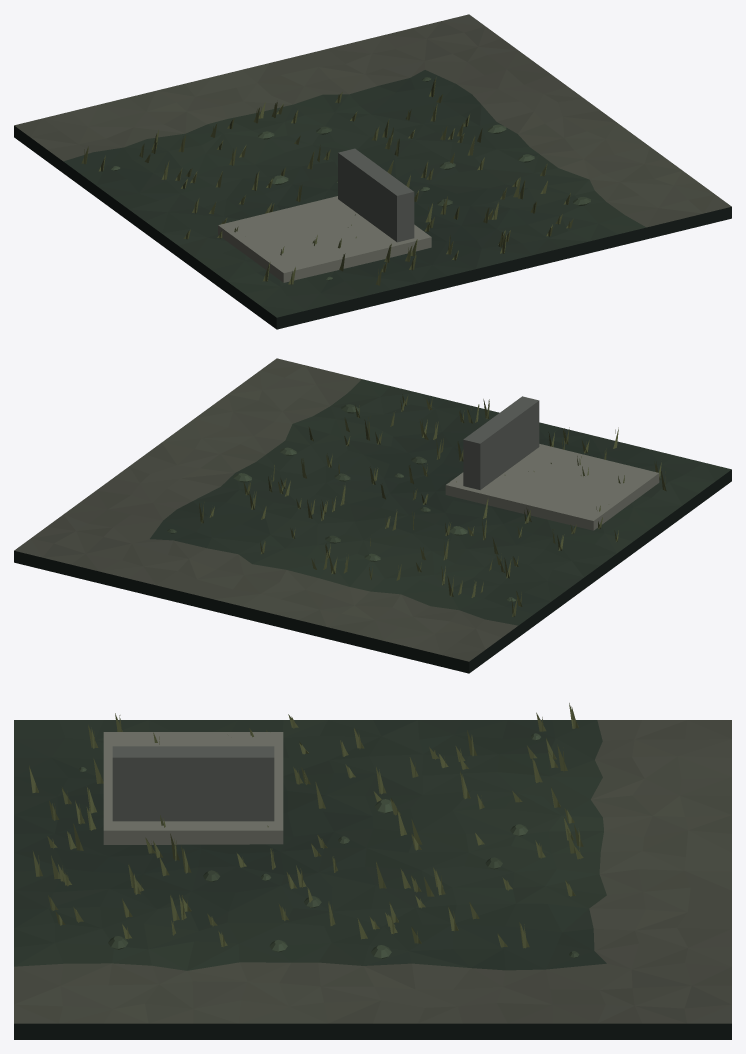
The model's file is CHUNK_ruined_monastery__rootbound_pilgrim_house__01.glb.
The picture shows the model from 3 angles, top to bottom: view 1: azimuth 30°, elevation 25°; view 2: azimuth 150°, elevation 25°; view 3: azimuth 270°, elevation 25°; orthographic projection. The views are drawn at different scales.
Visible parts, largest first — view 1: CHUNK_ruined_monastery__rootbound_pilgrim_house__01; view 2: CHUNK_ruined_monastery__rootbound_pilgrim_house__01; view 3: CHUNK_ruined_monastery__rootbound_pilgrim_house__01.
Part boxes in pixels (x1=…): CHUNK_ruined_monastery__rootbound_pilgrim_house__01: x1=14, y1=14, x2=731, y2=329; CHUNK_ruined_monastery__rootbound_pilgrim_house__01: x1=14, y1=358, x2=731, y2=673; CHUNK_ruined_monastery__rootbound_pilgrim_house__01: x1=14, y1=703, x2=731, y2=1039.
Size of the model in its own units: 8 by 1.16 by 8.
